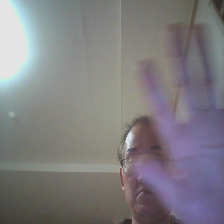hand: (133, 17, 224, 214)
